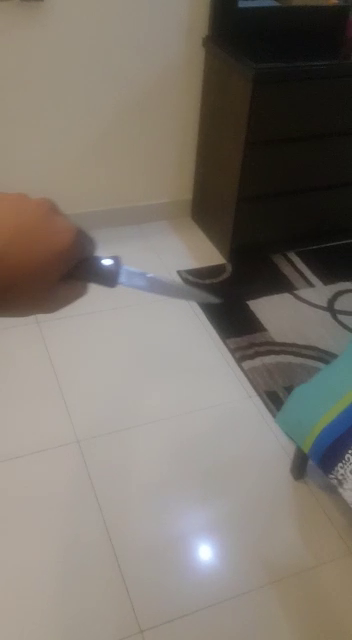knife: (6, 154, 241, 373)
